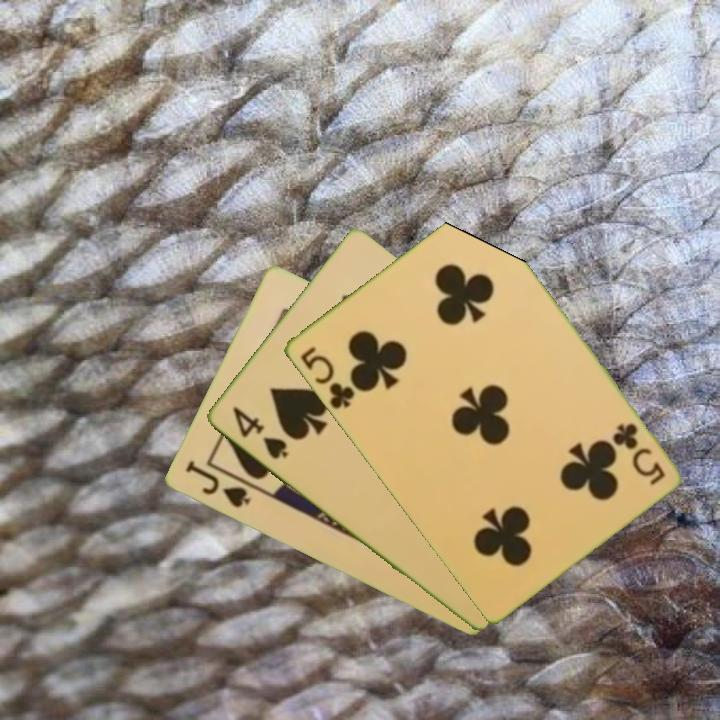4s: (228, 403, 291, 462)
5c: (296, 342, 357, 412), (609, 419, 668, 489)
Js: (181, 457, 253, 511)
